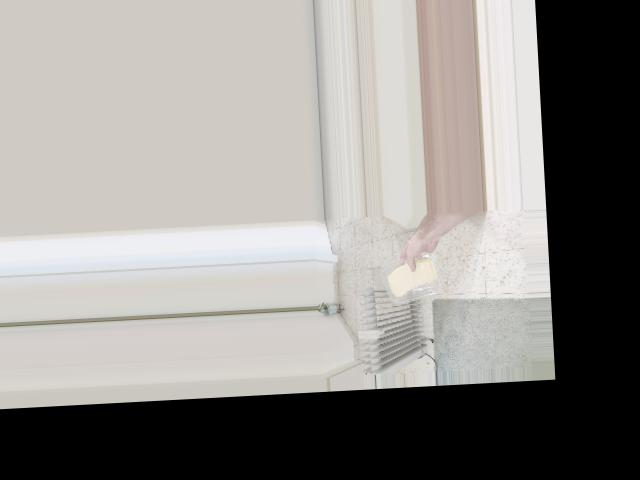cheese: (381, 254, 441, 298)
